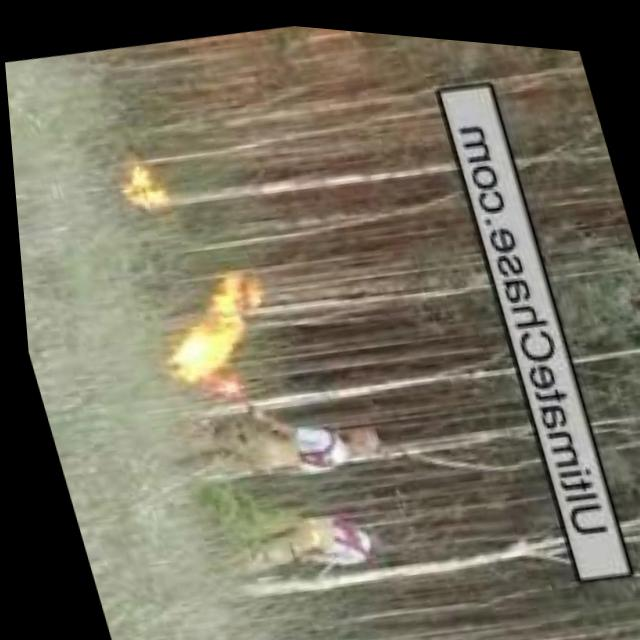Fire: (143, 257, 274, 387), (108, 149, 172, 213)
